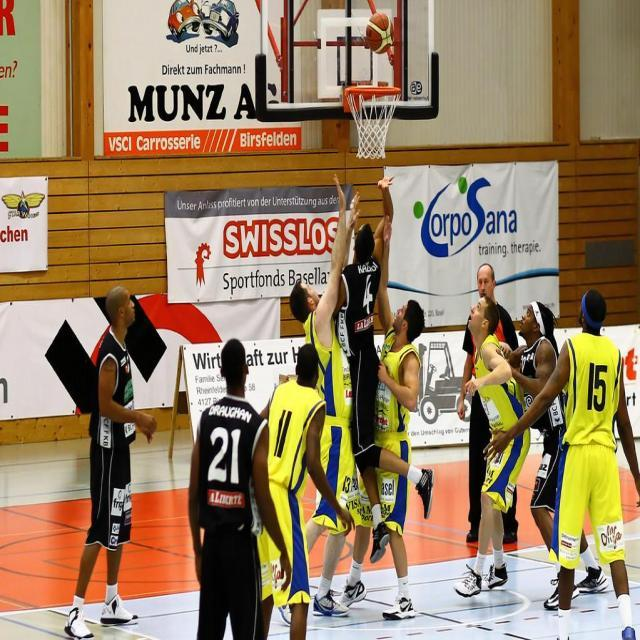rim: (367, 12, 392, 52)
